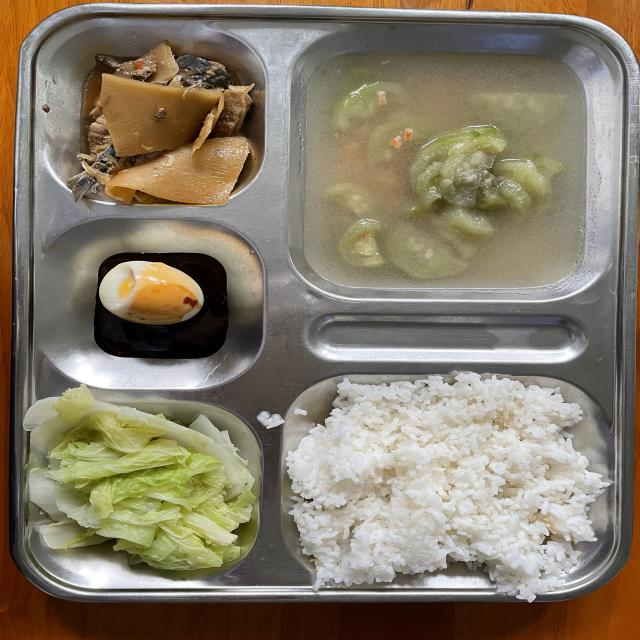com_trang: (333, 405, 599, 569)
